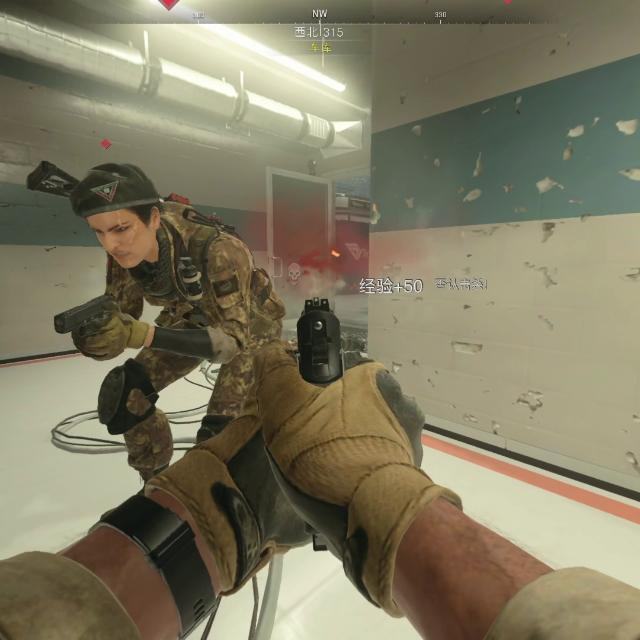MW2_body: (27, 138, 285, 443)
